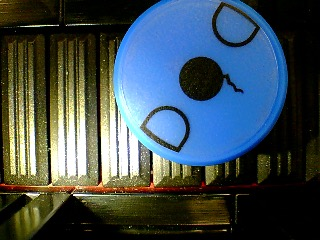CRACK: (112, 1, 289, 167)
